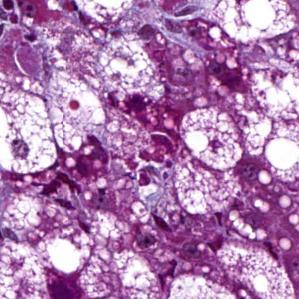ballooning: (4, 88, 60, 178), (178, 103, 247, 171), (212, 3, 296, 48)
